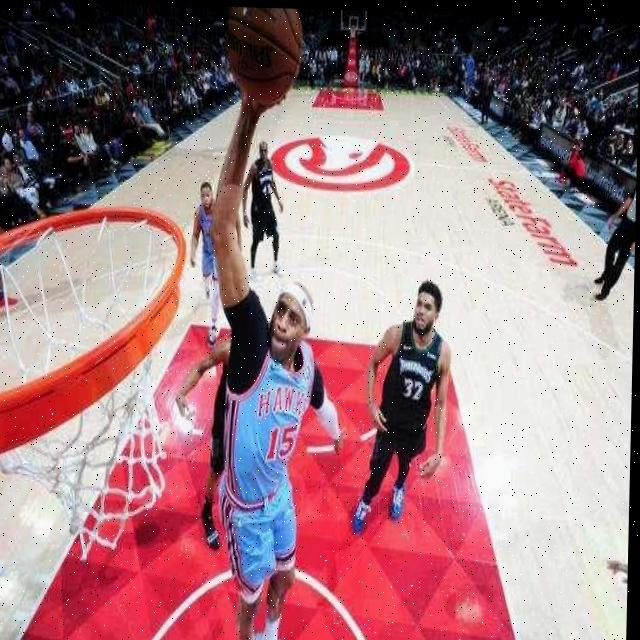basketball: (222, 8, 305, 103)
hoop: (0, 203, 187, 554)
